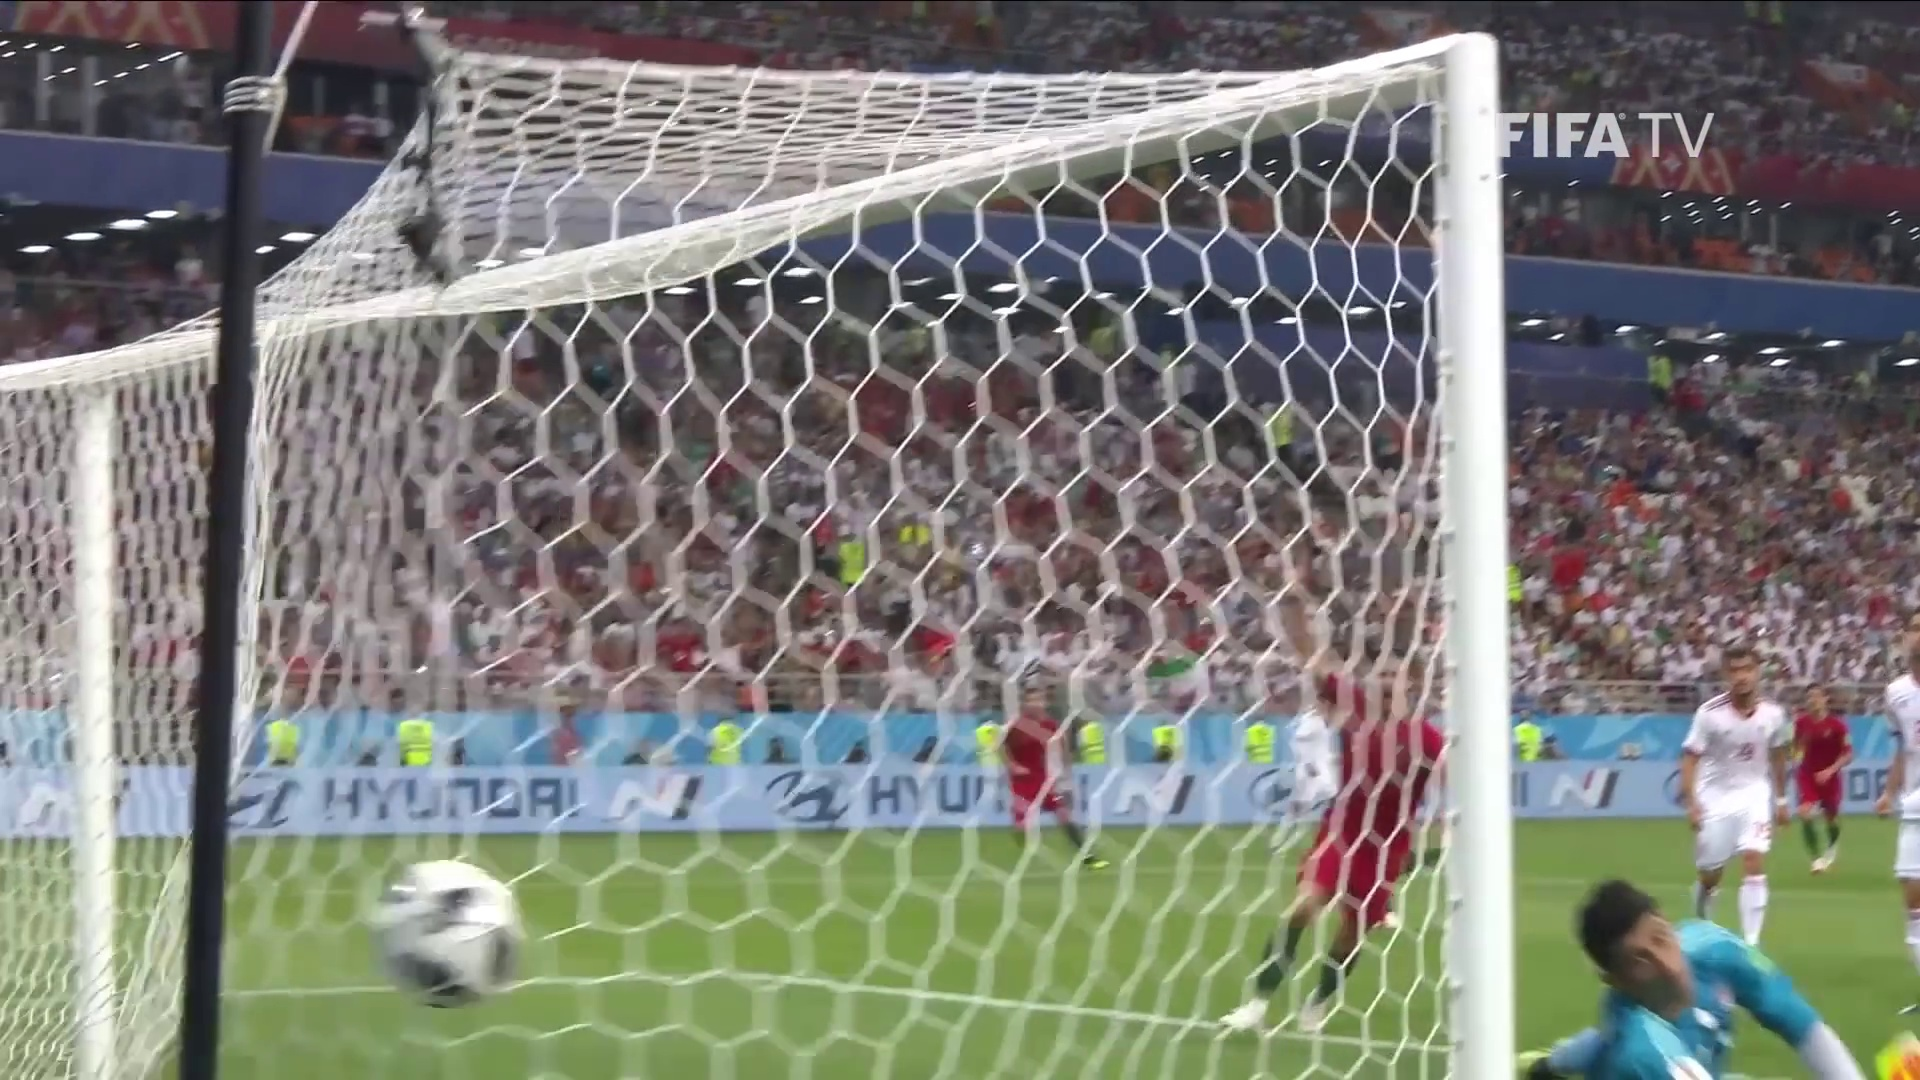ball: (383, 863, 520, 1012)
person: (1259, 567, 1440, 1018), (1522, 880, 1853, 1080), (1681, 643, 1793, 947), (1003, 688, 1105, 863), (1789, 682, 1852, 880), (1891, 614, 1920, 936)
